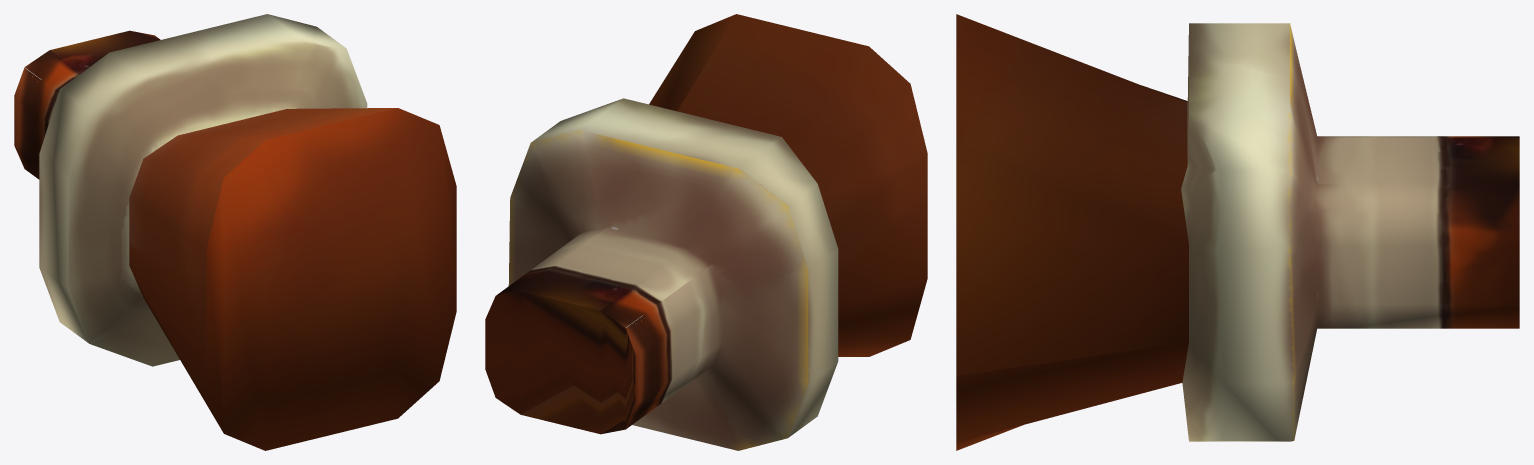
Rendered from Cork_bullet_2.fbx.
3 views of the same model, side by side, from view 1: azimuth 30°, elevation 25°; view 2: azimuth 150°, elevation 25°; view 3: azimuth 270°, elevation 25° (orthographic). The views are drawn at different scales.
Visible parts, largest first — view 1: Cork_Bullet; view 2: Cork_Bullet; view 3: Cork_Bullet.
Part boxes in pixels (<box>): Cork_Bullet: <box>14,14,456,450</box>; Cork_Bullet: <box>485,14,927,450</box>; Cork_Bullet: <box>956,14,1519,450</box>.
Bounding box in the file's own units: 25.93 × 25.81 × 36.45.
